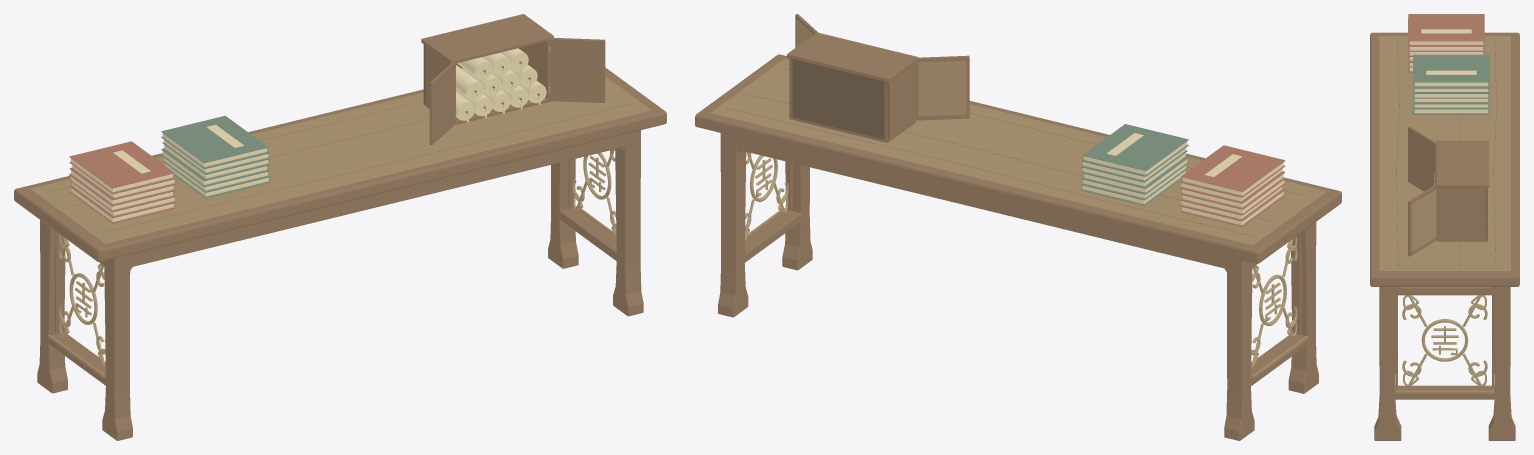
Rendered from tang-study-writing-table.glb.
3 renders of one model, left to right at view 1: azimuth 30°, elevation 25°; view 2: azimuth 150°, elevation 25°; view 3: azimuth 270°, elevation 25°, orthographic. The views are drawn at different scales.
Parts seen in each view (by area): view 1: study_writing_table__wood, study_writing_table__moulding_fine, study_writing_table__paper_fine, study_writing_table__book_jade_fine, study_writing_table__book_red_fine, study_writing_table__label_fine, study_writing_table__carving_fine, study_writing_table__wood_fine, study_writing_table__paper_edge_fine; view 2: study_writing_table__wood, study_writing_table__moulding_fine, study_writing_table__recess, study_writing_table__paper_fine, study_writing_table__book_jade_fine, study_writing_table__book_red_fine, study_writing_table__carving_fine, study_writing_table__wood_fine; view 3: study_writing_table__wood, study_writing_table__moulding_fine, study_writing_table__book_jade_fine, study_writing_table__paper_fine, study_writing_table__book_red_fine, study_writing_table__carving_fine, study_writing_table__wood_fine, study_writing_table__label_fine.
Boxes of the visible parts, x1,y1,x2,y2 form: study_writing_table__wood: (14,14,666,440); study_writing_table__moulding_fine: (29,76,651,377); study_writing_table__paper_fine: (70,48,545,221); study_writing_table__book_jade_fine: (161,115,269,198); study_writing_table__book_red_fine: (69,141,176,223); study_writing_table__label_fine: (113,53,546,173); study_writing_table__carving_fine: (58,149,616,366); study_writing_table__wood_fine: (47,101,631,332); study_writing_table__paper_edge_fine: (115,55,543,220); study_writing_table__wood: (695,14,1341,440); study_writing_table__moulding_fine: (710,20,1326,378); study_writing_table__recess: (792,59,889,139); study_writing_table__paper_fine: (1082,141,1284,225); study_writing_table__book_jade_fine: (1081,124,1188,205); study_writing_table__book_red_fine: (1179,145,1285,226); study_writing_table__carving_fine: (745,152,1297,367); study_writing_table__wood_fine: (727,68,1307,332); study_writing_table__wood: (1370,32,1519,440); study_writing_table__moulding_fine: (1379,36,1510,393); study_writing_table__book_jade_fine: (1413,54,1489,114); study_writing_table__paper_fine: (1409,41,1488,113); study_writing_table__book_red_fine: (1408,14,1484,72); study_writing_table__carving_fine: (1402,295,1487,386); study_writing_table__wood_fine: (1395,39,1496,386); study_writing_table__label_fine: (1421,29,1476,185).
Size of the model in its own units: 2.32 by 1.03 by 0.6.
